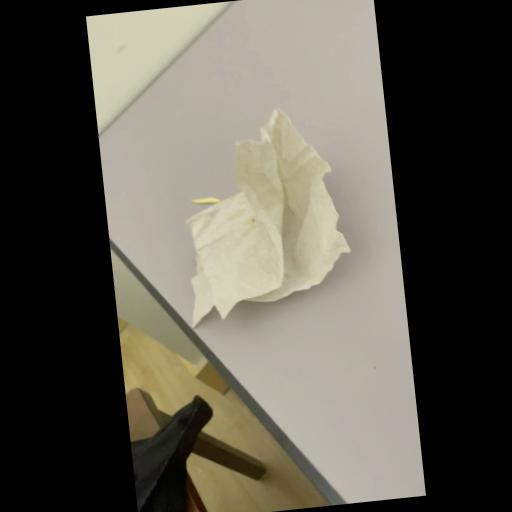napkin: (154, 98, 366, 338)
